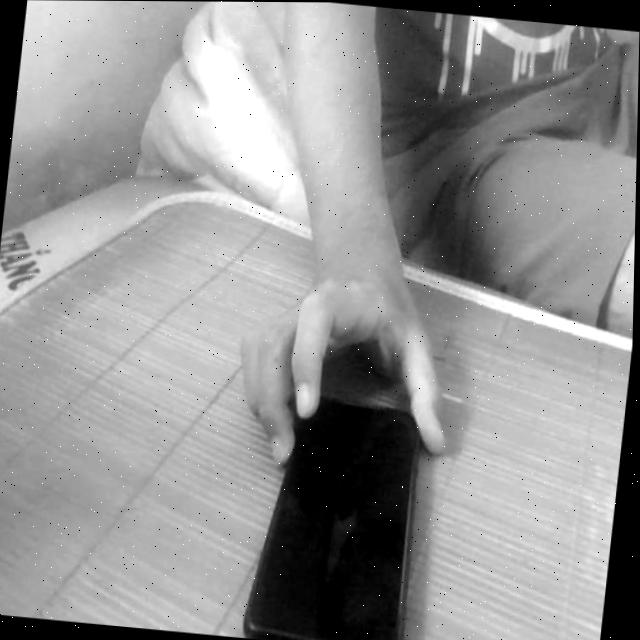phone: (235, 376, 452, 640)
